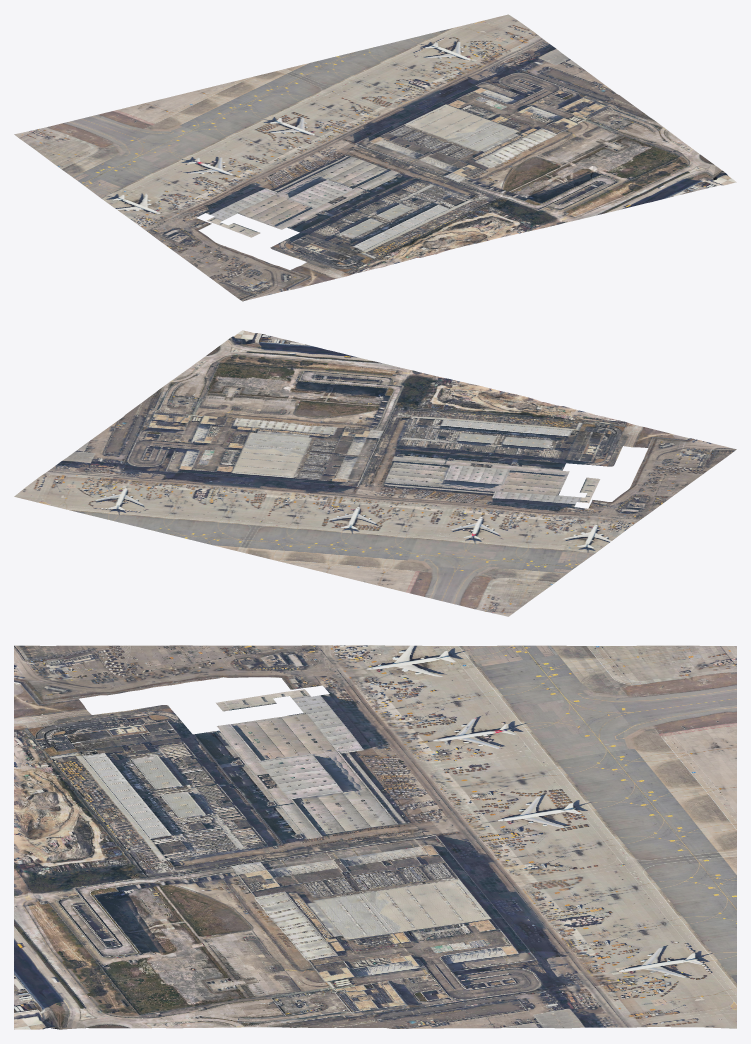
File: terrain_01.glb
3 renders of one model, top to bottom at view 1: azimuth 30°, elevation 25°; view 2: azimuth 150°, elevation 25°; view 3: azimuth 270°, elevation 25°, orthographic. The views are drawn at different scales.
Visible parts, largest first — view 1: T09750174000106E11.001; view 2: T09750174000106E11.001; view 3: T09750174000106E11.001.
Part boxes in pixels (x1=…): T09750174000106E11.001: x1=14, y1=14, x2=736, y2=301; T09750174000106E11.001: x1=14, y1=330, x2=736, y2=616; T09750174000106E11.001: x1=14, y1=645, x2=736, y2=1029.
Size of the model in its own units: 750 by 26.48 by 600.
1 material, 1 textured.
